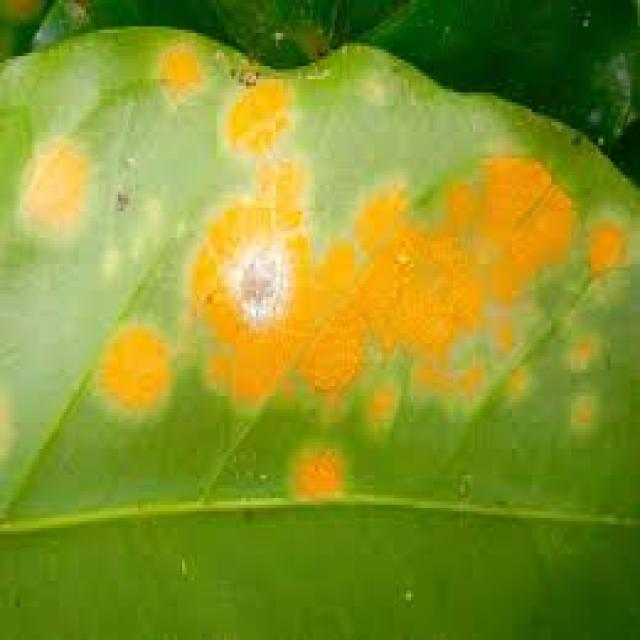leaf_rust: (0, 30, 638, 637)
